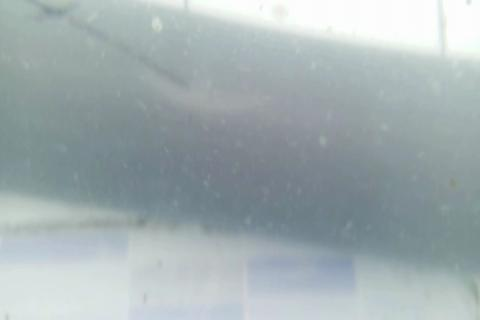keretakan: (19, 0, 194, 98)
